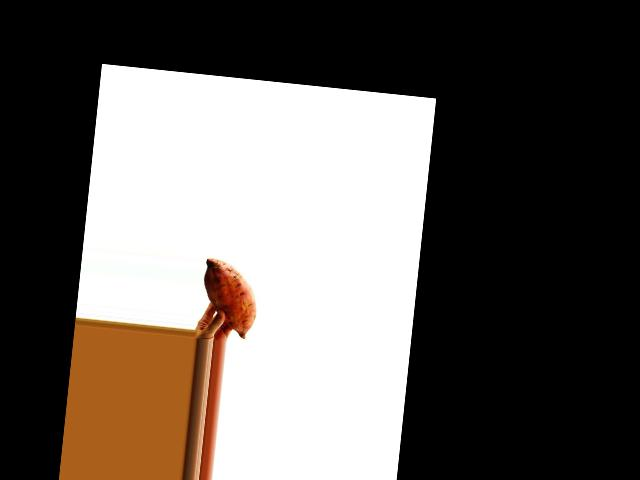sweet_potato: (196, 255, 266, 337)
